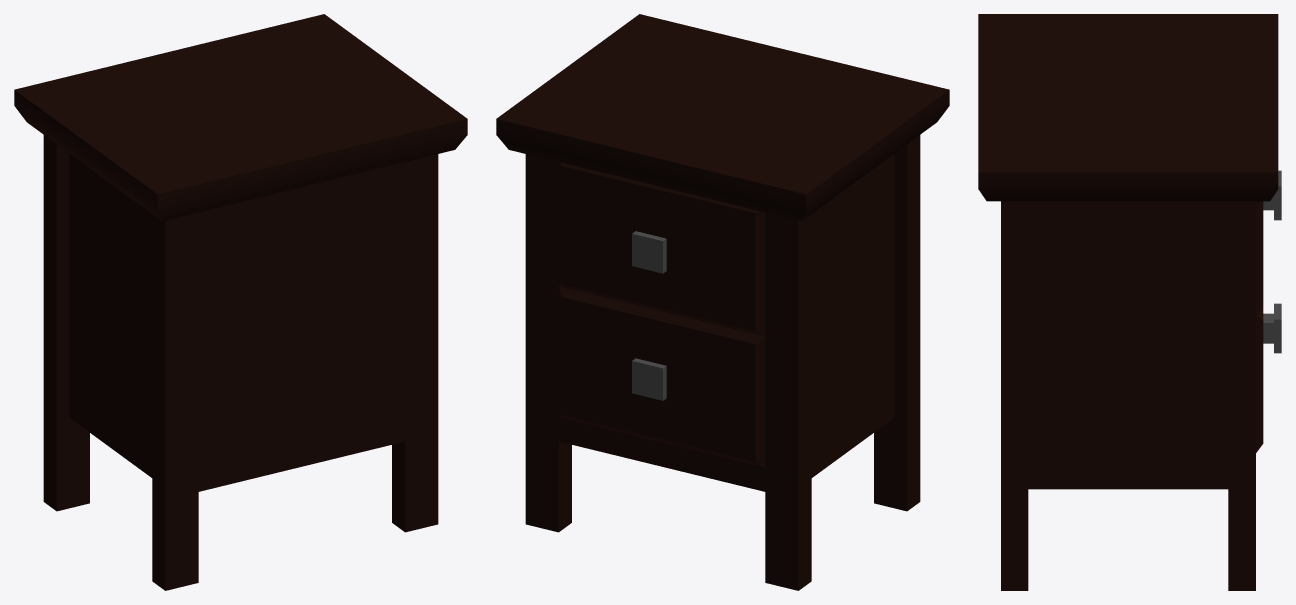
File: Nightstand.FBX
The picture shows the model from 3 angles, left to right: view 1: azimuth 30°, elevation 25°; view 2: azimuth 150°, elevation 25°; view 3: azimuth 270°, elevation 25°; orthographic projection. The views are drawn at different scales.
Visible parts, largest first — view 1: Box002; view 2: Box002, Box012, Box013; view 3: Box002, Box013, Box012.
Part boxes in pixels (x1=…): Box002: x1=14, y1=14, x2=467, y2=590; Box002: x1=496, y1=14, x2=949, y2=590; Box012: x1=632, y1=231, x2=666, y2=273; Box013: x1=632, y1=358, x2=666, y2=400; Box002: x1=978, y1=14, x2=1278, y2=590; Box013: x1=1263, y1=303, x2=1281, y2=353; Box012: x1=1263, y1=170, x2=1281, y2=220.
Bounding box in the file's own units: 19.69 × 24.8 × 15.91.
